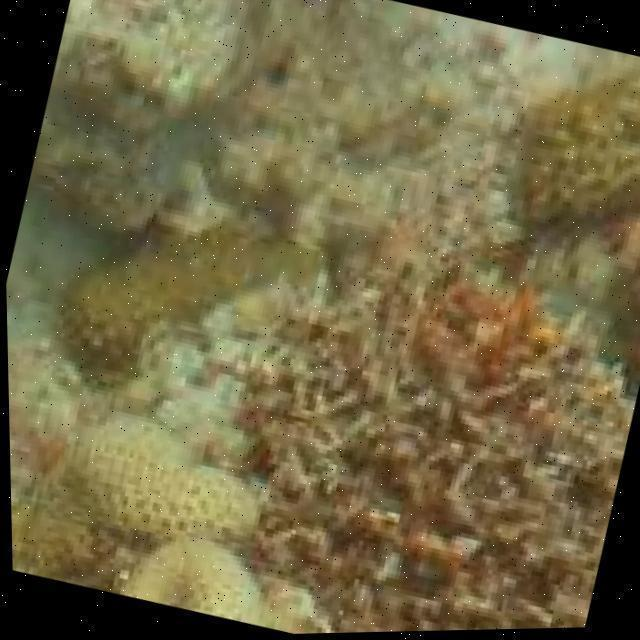Bleached Coral: (0, 411, 256, 590)
